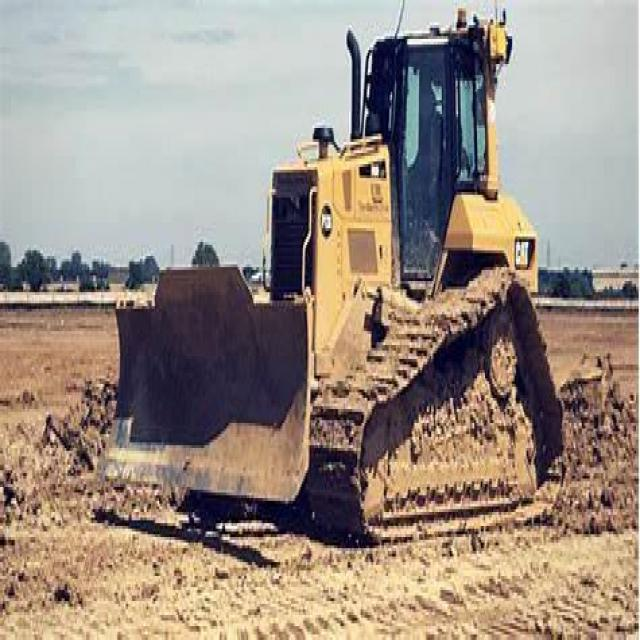Bulldozer: (89, 8, 569, 601)
